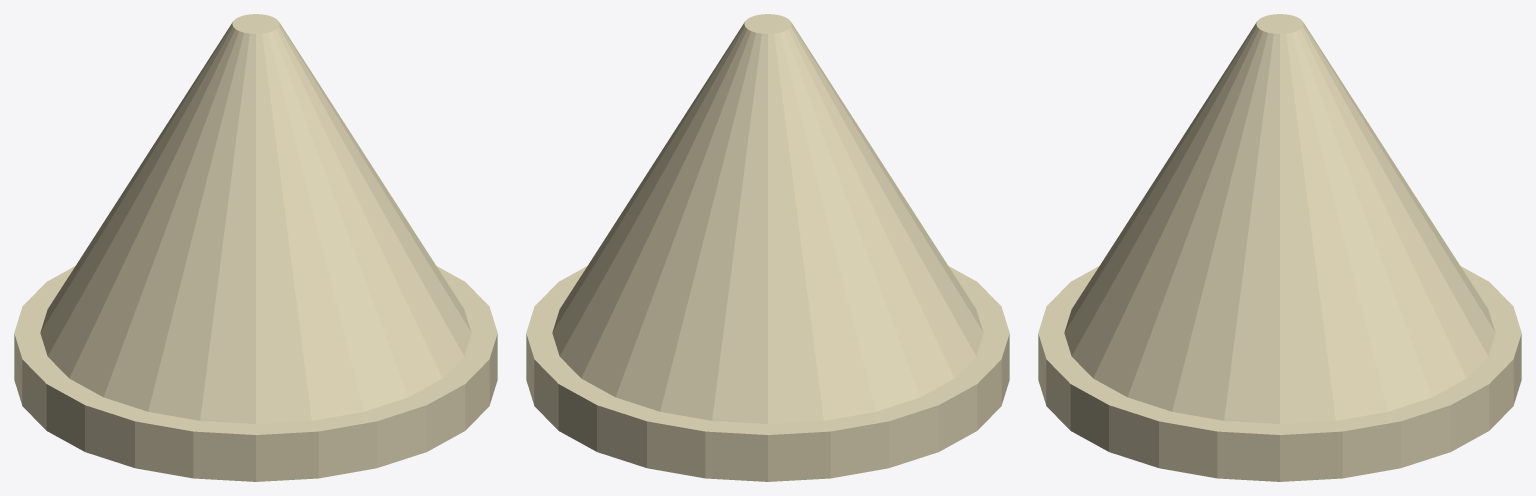
The model's file is towertoproof.glb.
3 views of the same model, side by side, from view 1: azimuth 30°, elevation 25°; view 2: azimuth 150°, elevation 25°; view 3: azimuth 270°, elevation 25° (orthographic).
Parts seen in each view (by area): view 1: towerTopRoof; view 2: towerTopRoof; view 3: towerTopRoof.
Part boxes in pixels (left/top/right/bottom): towerTopRoof: left=14, top=14, right=497, bottom=481; towerTopRoof: left=526, top=14, right=1009, bottom=481; towerTopRoof: left=1038, top=14, right=1521, bottom=481.
Bounding box in the file's own units: 11.21 × 9.1 × 11.21.
